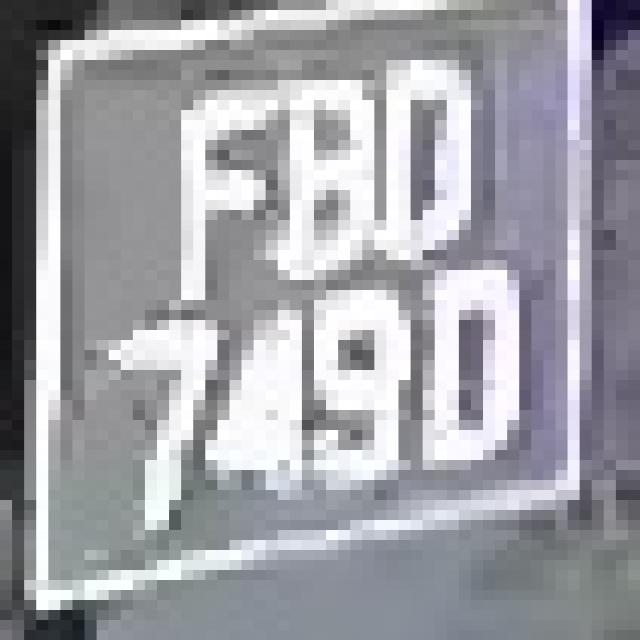4: (205, 300, 326, 490)
7: (84, 290, 206, 540)
9: (290, 270, 410, 520)
B: (253, 80, 374, 270)
D: (411, 280, 544, 470)
F: (157, 80, 278, 290)
O: (350, 50, 483, 240)
